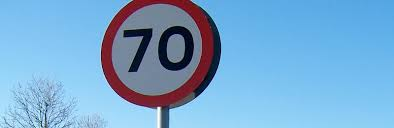Speed_limit_70km: (99, 1, 218, 107)
